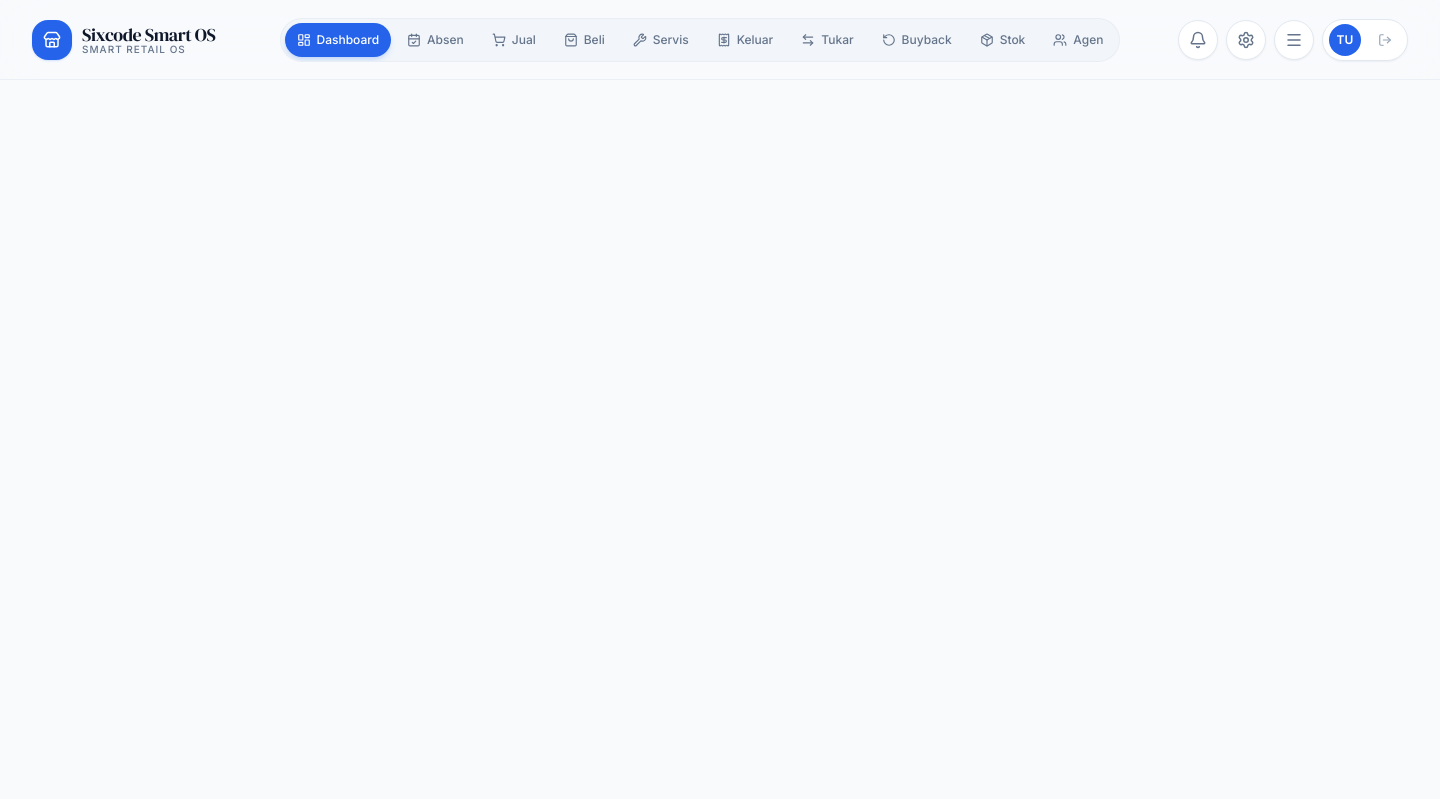
Test: Navbar — Operasi section (Requirements 4.1, 4.2) › keeps other known navigation labels working (Servis, Manajemen Agen)
Click the button named "Menu cepat" at (1294, 40), box [1274,20,1314,60]
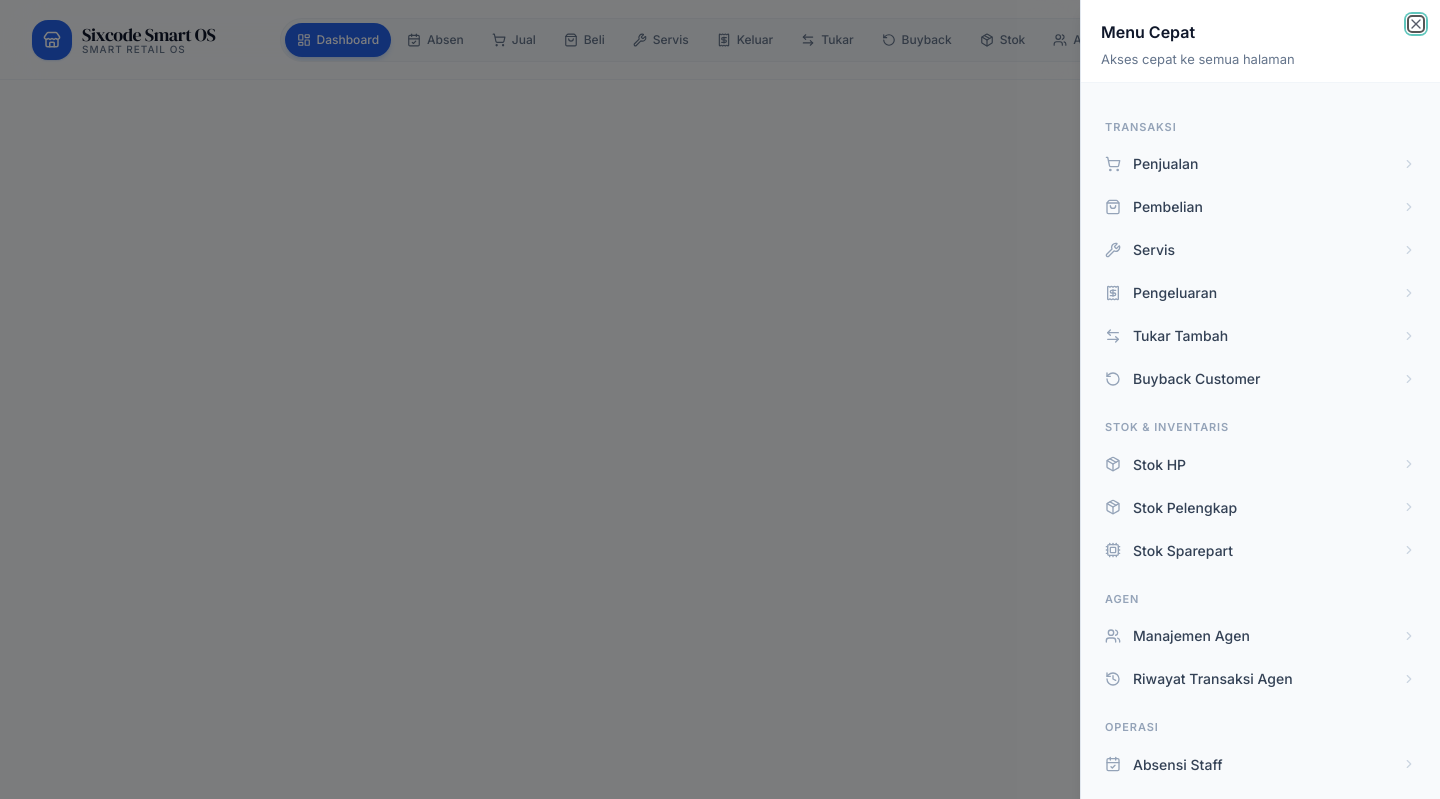
Expected: the link "Servis" is shown, [1105,241,1416,258]
Expected: the link "Manajemen Agen" is shown, [1105,627,1416,644]
